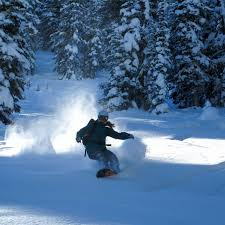snowboarder: (67, 101, 142, 181)
